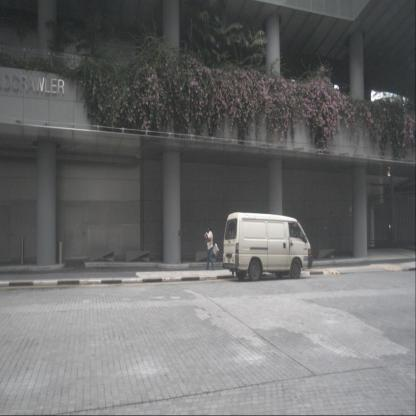human-pedestrian-adult: (205, 224, 215, 271)
vehicle-car: (223, 212, 313, 282)
